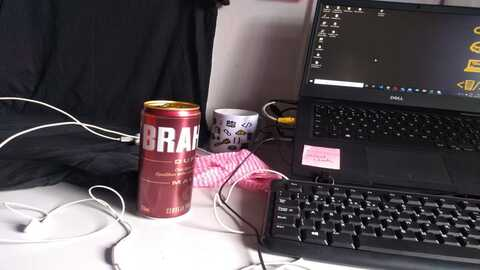duplo_malte: (138, 98, 204, 218)
